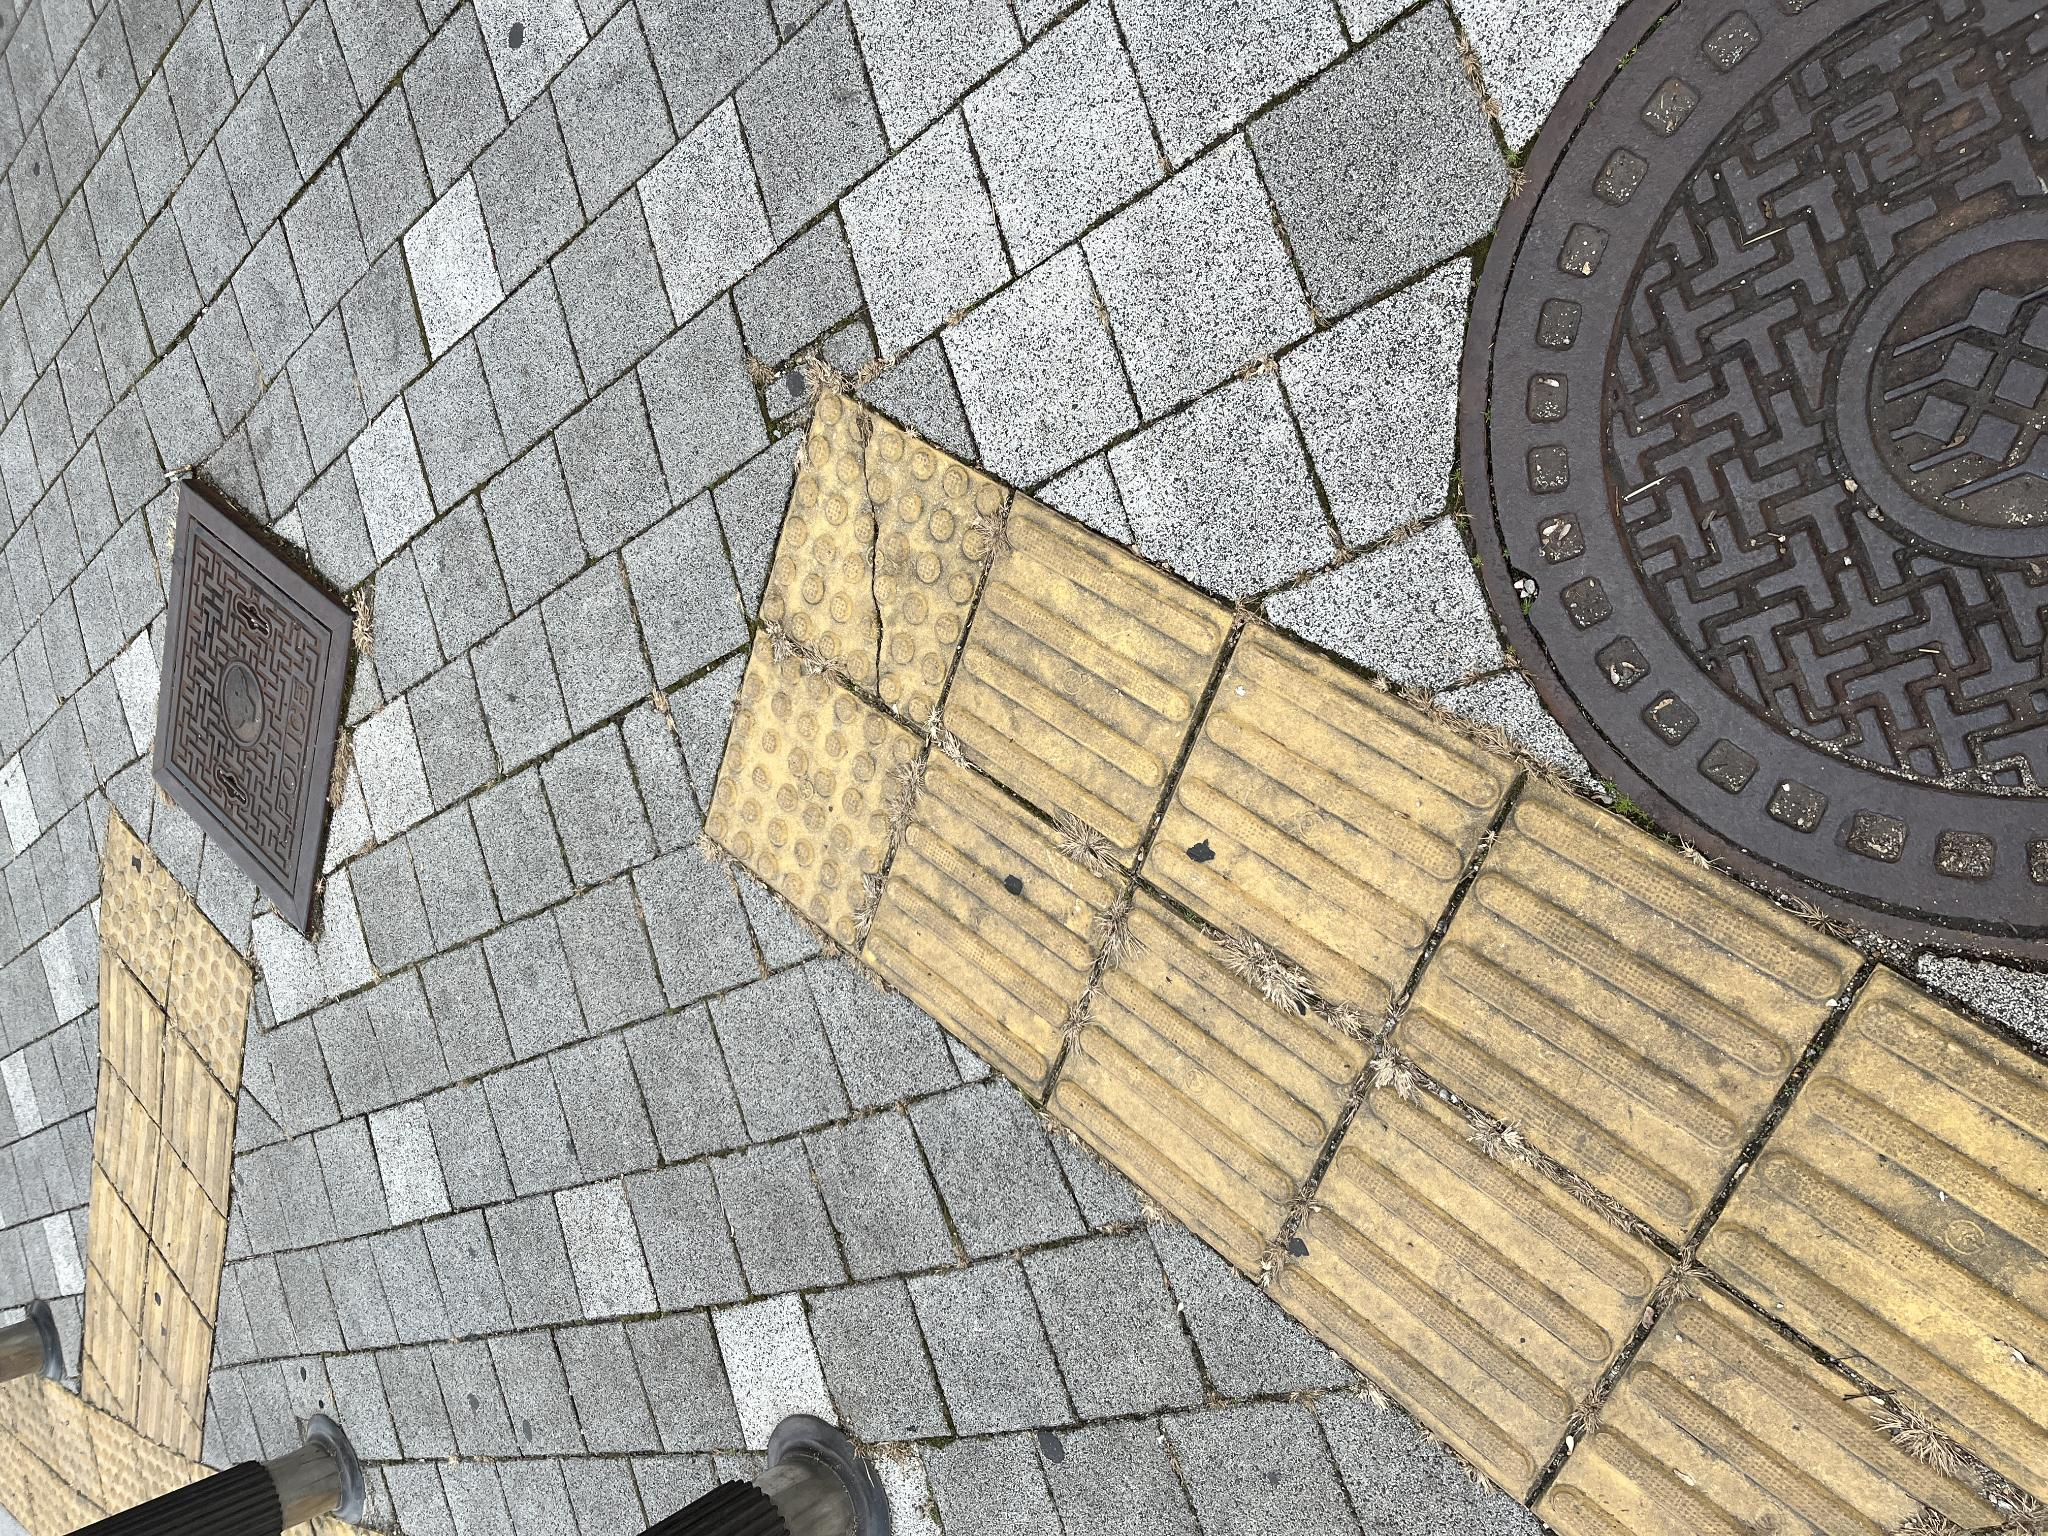Stop block broken: (805, 758, 1148, 1008)
Stop block normal: (582, 705, 906, 920)
Straight block normal: (255, 1047, 647, 1370), (382, 1384, 761, 1536)
